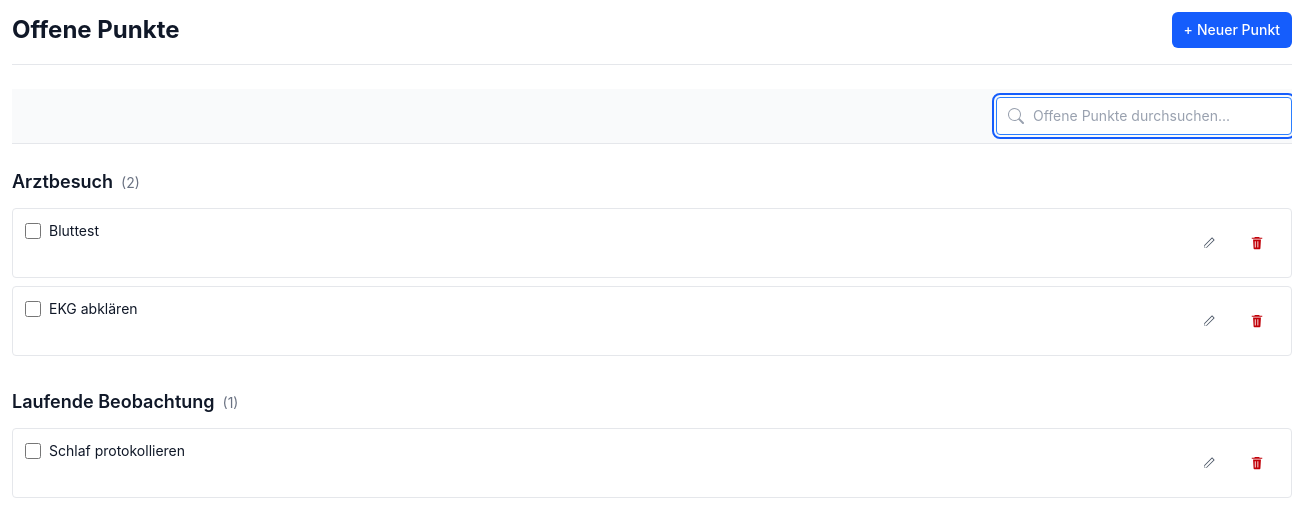
Test: OpenPointsView › search filter (P-22d) › context-label match keeps the group visible
Type "Beobachtung" into the search field at point(1144, 116), box [996, 97, 1292, 135]
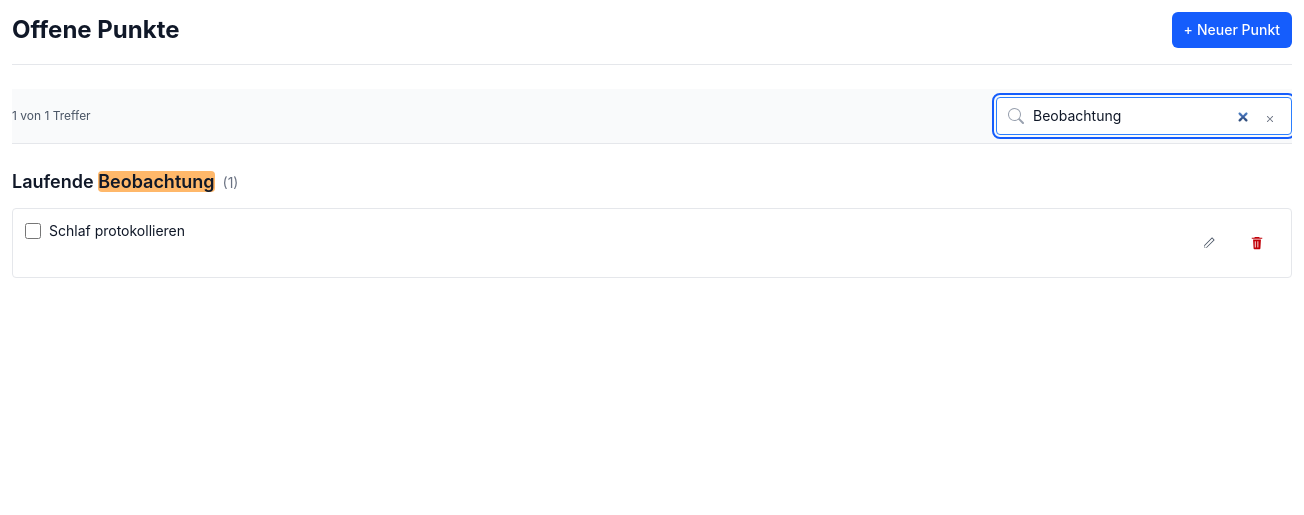
Expected: the heading "Laufende Beobachtung (1)" is shown, [12, 171, 238, 192]
Expected: the text "Arztbesuch" is gone
